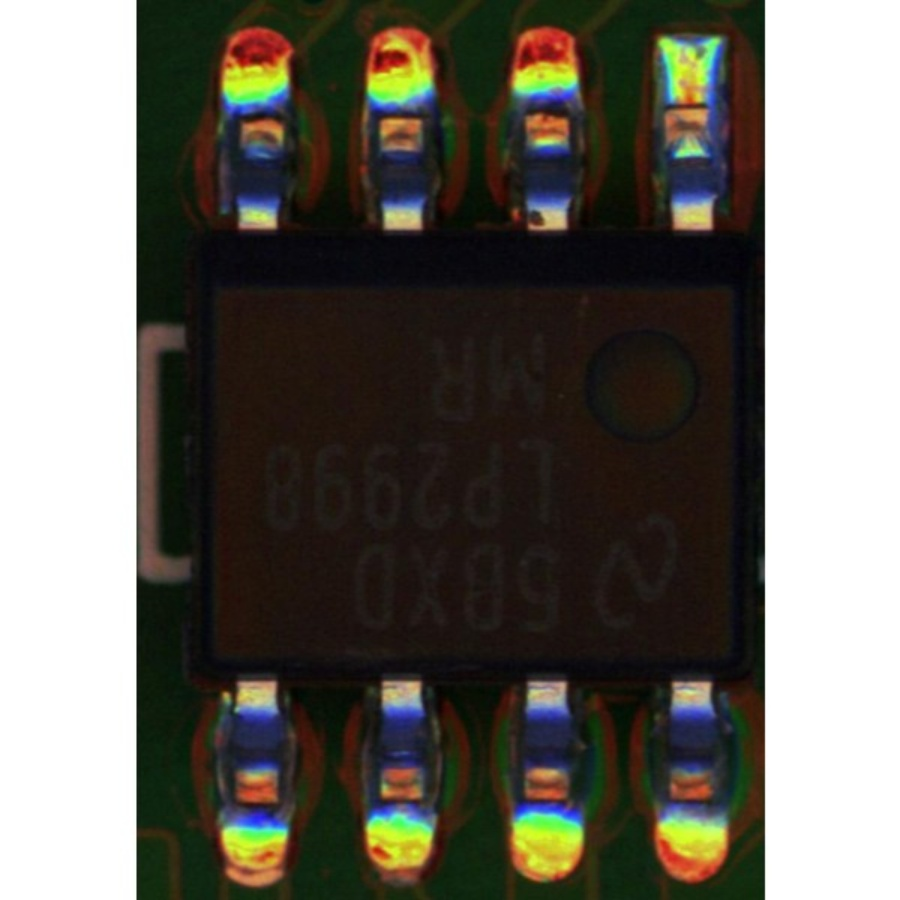Bad_podu: (672, 82, 707, 121)
